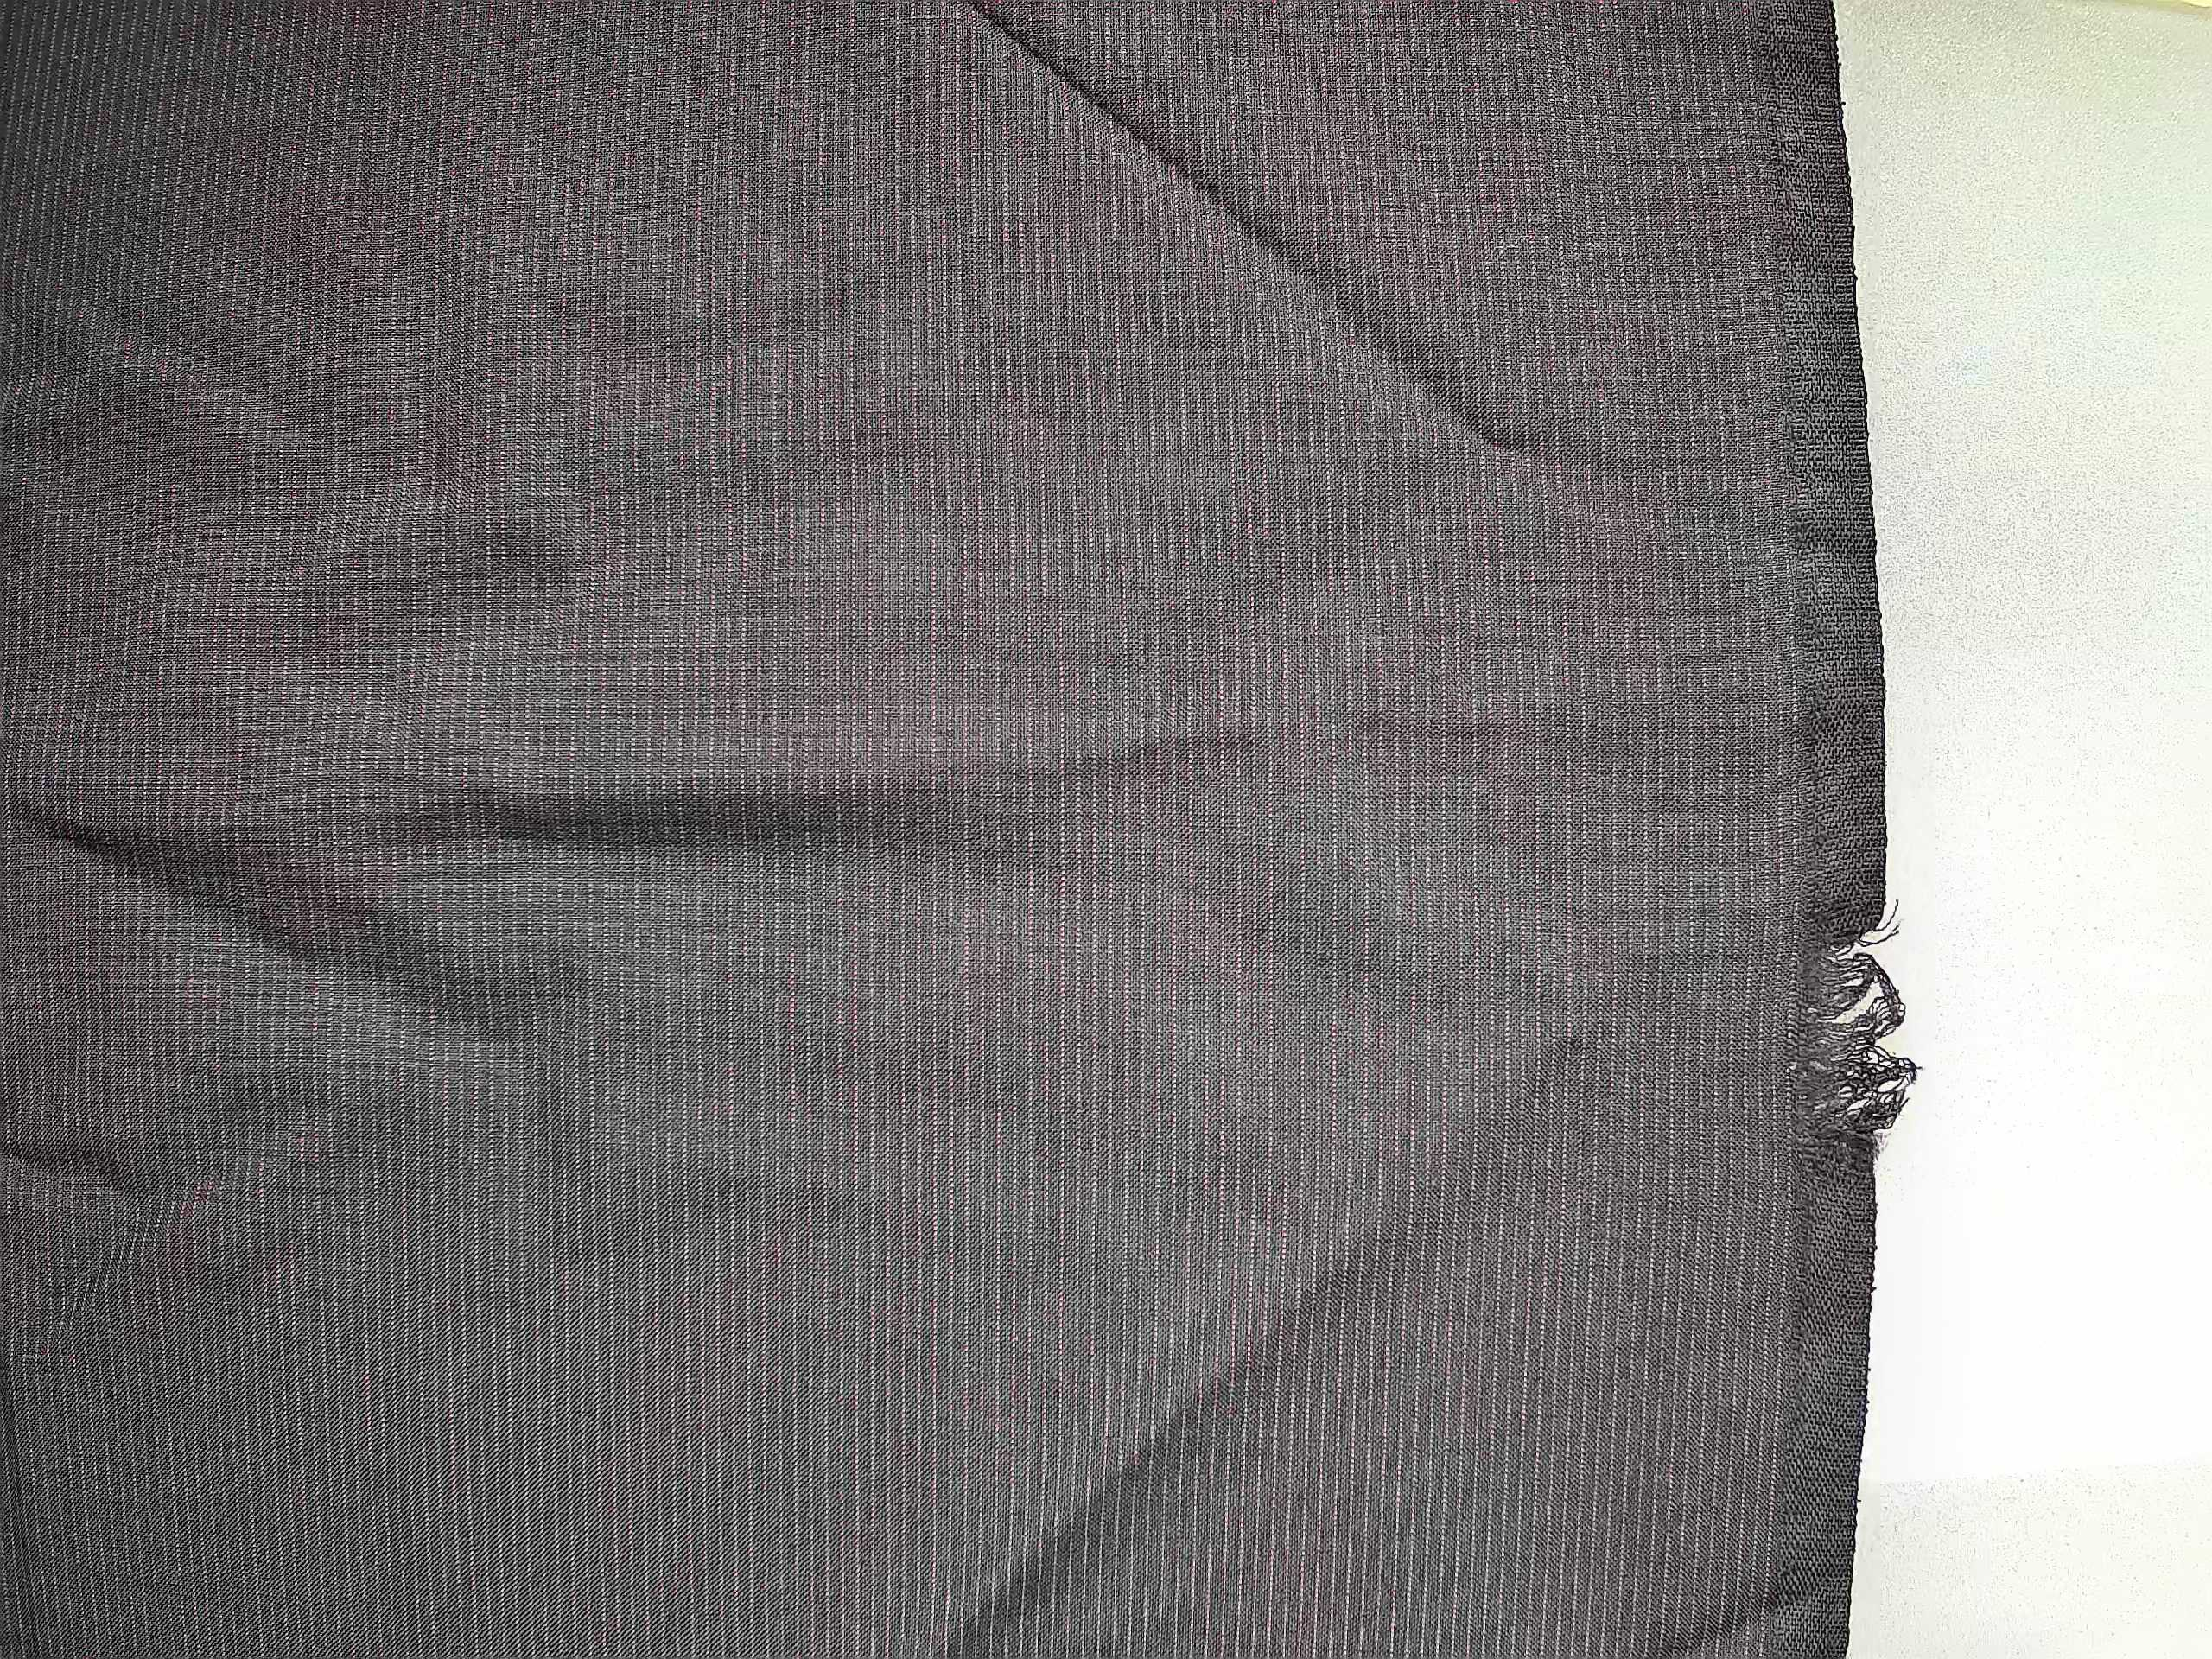others: (1730, 852, 1942, 1206)
